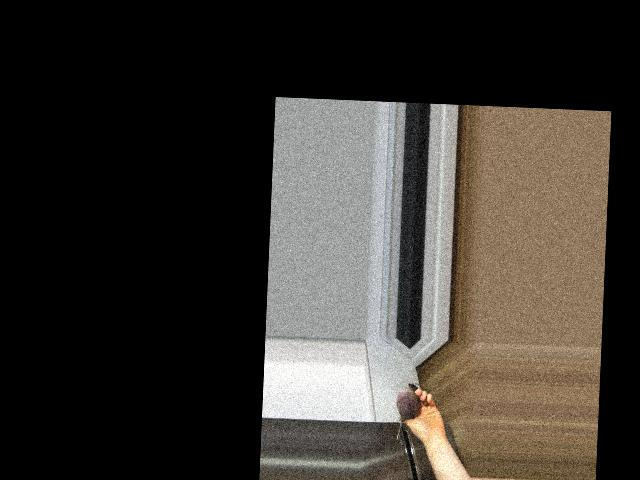beet: (395, 381, 420, 439)
